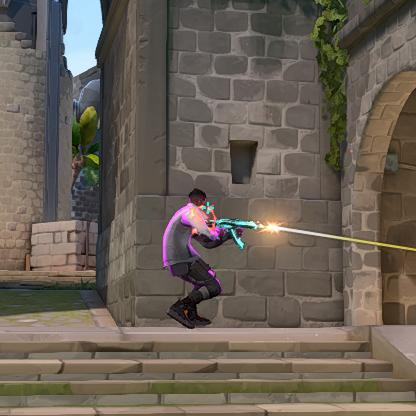enemyBody: (173, 213, 191, 260)
enemyHead: (191, 195, 204, 209)
